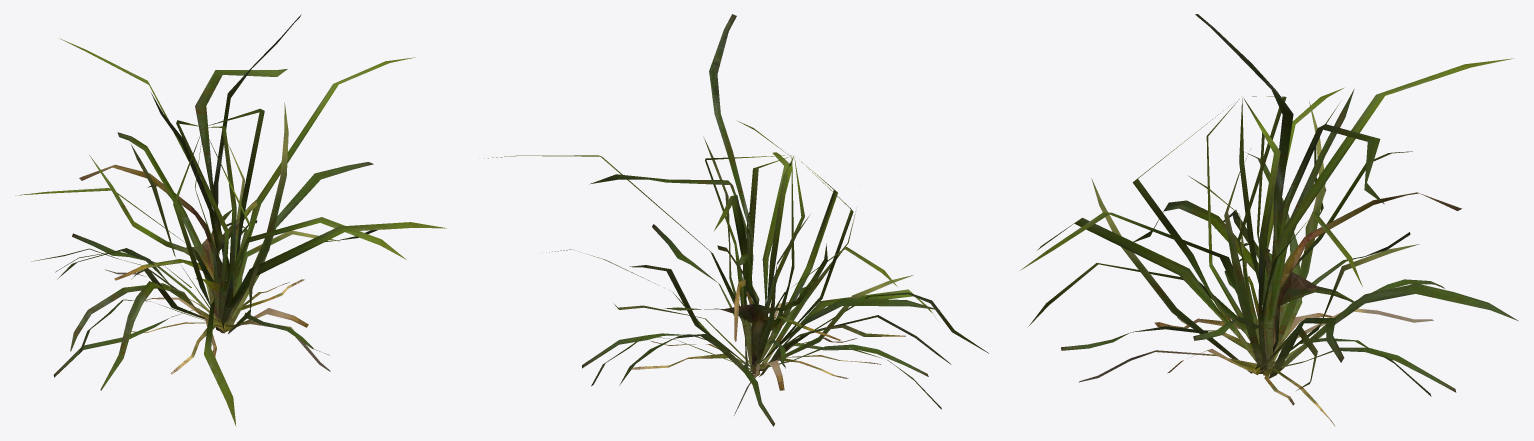
The model's file is grass_medium_01_1k.gltf.
The picture shows the model from 3 angles, left to right: view 1: azimuth 30°, elevation 25°; view 2: azimuth 150°, elevation 25°; view 3: azimuth 270°, elevation 25°; orthographic projection. The views are drawn at different scales.
Parts seen in each view (by area): view 1: grass_medium_01_small_a_LOD2; view 2: grass_medium_01_small_a_LOD2; view 3: grass_medium_01_small_a_LOD2.
Part boxes in pixels (<box>): grass_medium_01_small_a_LOD2: <box>15,14,446,426</box>; grass_medium_01_small_a_LOD2: <box>488,14,988,426</box>; grass_medium_01_small_a_LOD2: <box>1020,14,1518,426</box>.
Bounding box in the file's own units: 0.1849 × 0.1404 × 0.162.
Materials: 1 (1 with a texture image).
